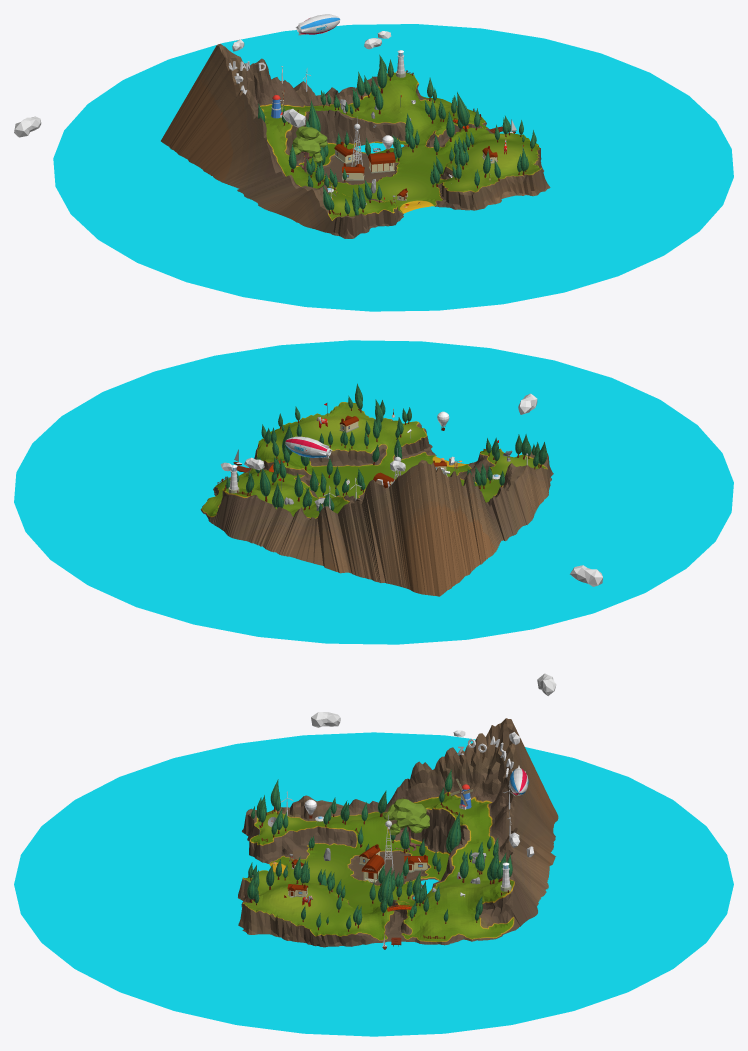
File: Zoomland.glb
3 renders of one model, top to bottom at view 1: azimuth 30°, elevation 25°; view 2: azimuth 150°, elevation 25°; view 3: azimuth 270°, elevation 25°, orthographic. The views are drawn at different scales.
Parts seen in each view (by area): view 1: Ocean, Land, BigTree, Airship, Cinema; view 2: Ocean, Land, Airship; view 3: Ocean, Land, BigTree.
Part boxes in pixels (left/top/right/bottom): Ocean: left=53, top=24, right=733, bottom=311; Land: left=161, top=44, right=550, bottom=238; BigTree: left=289, top=126, right=327, bottom=171; Airship: left=295, top=14, right=340, bottom=35; Cinema: left=368, top=152, right=395, bottom=173; Ocean: left=14, top=340, right=733, bottom=644; Land: left=200, top=402, right=553, bottom=596; Airship: left=285, top=436, right=332, bottom=458; Ocean: left=14, top=732, right=733, bottom=1036; Land: left=238, top=718, right=558, bottom=947; BigTree: left=383, top=798, right=429, bottom=854.
Bounding box in the file's own units: 46.86 × 8.58 × 46.68.
36 materials, 4 textured.
